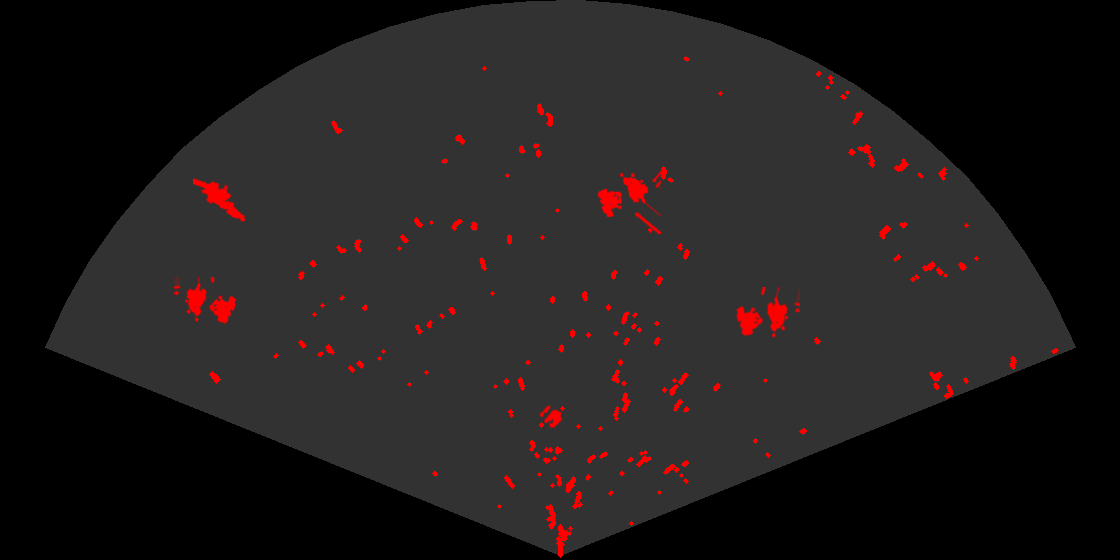ball: (537, 404, 564, 430)
cage: (596, 169, 661, 234), (735, 287, 800, 340), (174, 277, 238, 325)
frogman: (193, 176, 256, 224)
